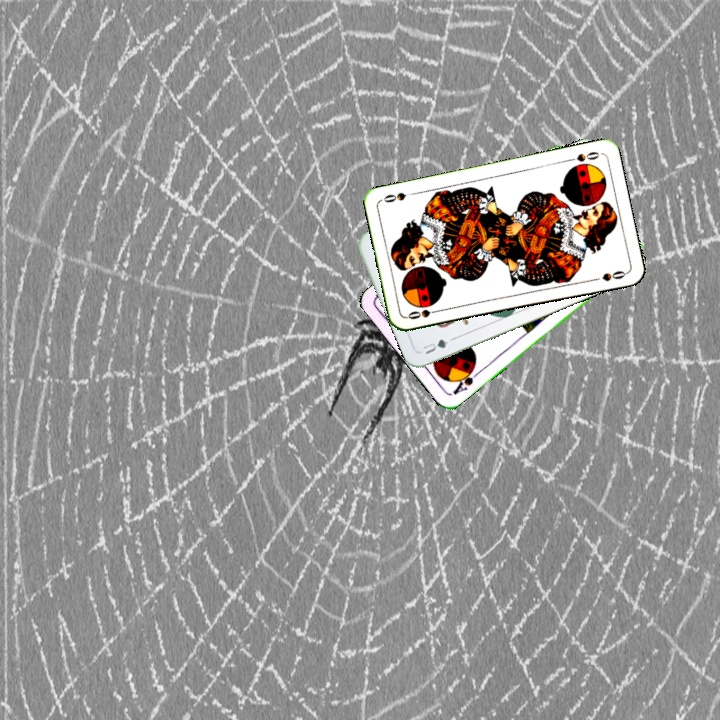GU: (418, 335, 451, 357)
SA: (448, 363, 483, 398)
SO: (403, 305, 444, 322), (563, 147, 602, 164)
